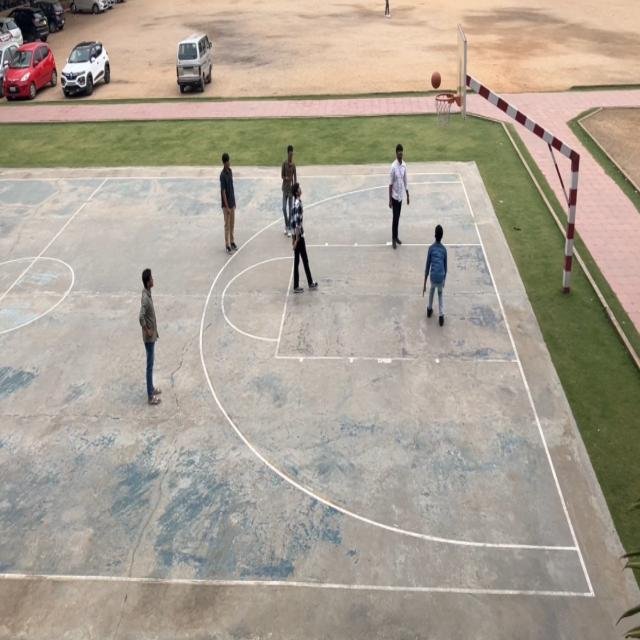basketball: (430, 70, 444, 91)
hoop: (433, 92, 455, 128)
